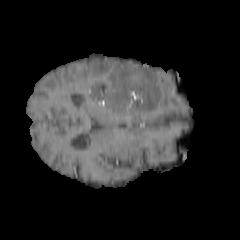glioma: (86, 66, 162, 113)
